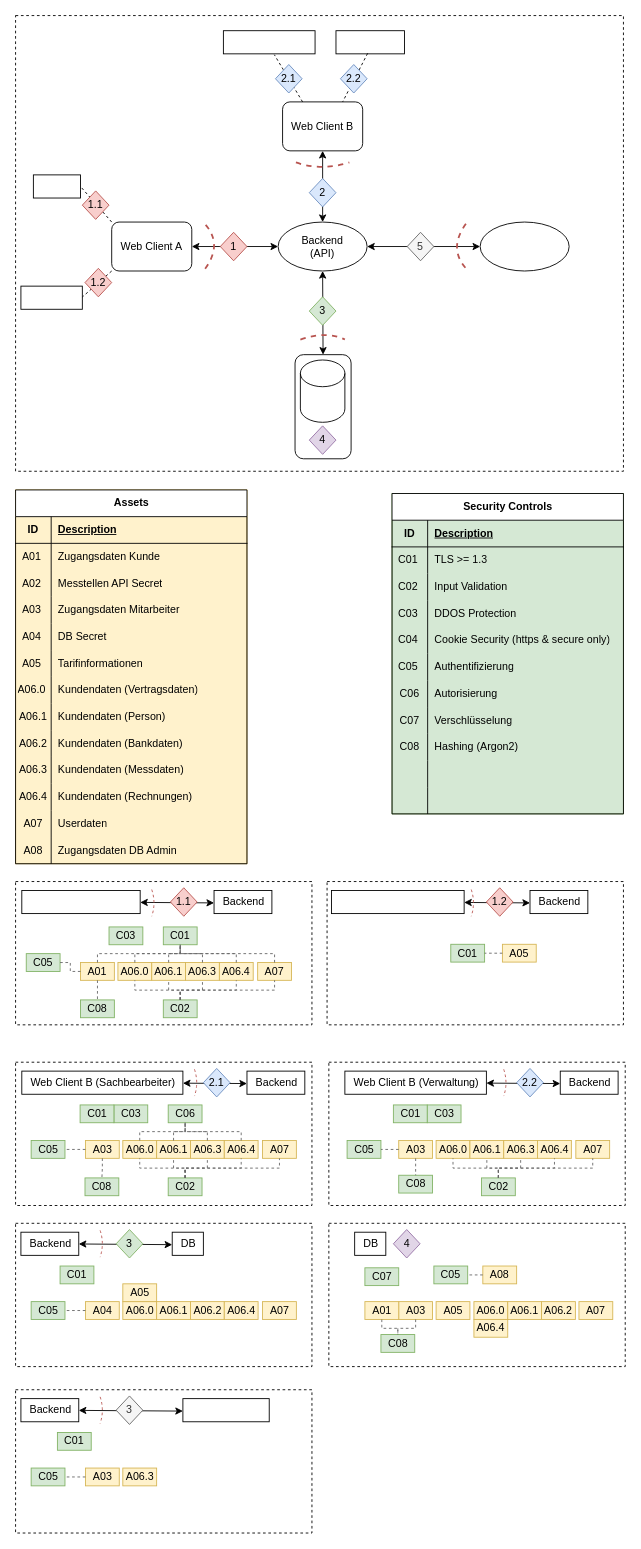
Some shapes in this 641 by 1549 pixel diagram are drawn without their labels. Each missing label, with the centre of its shape:
Besucher: point 51,297
Kunde: point 56,186
Messstellen API (extern): point 524,246
Messtellen API: point 225,1410
Postgres DB: point 322,390
Sachbearbteiter: point 268,42
Verwaltung: point 370,42
Web Client A (Besucher): point 397,902
Web Client A (Kunde): point 80,902
